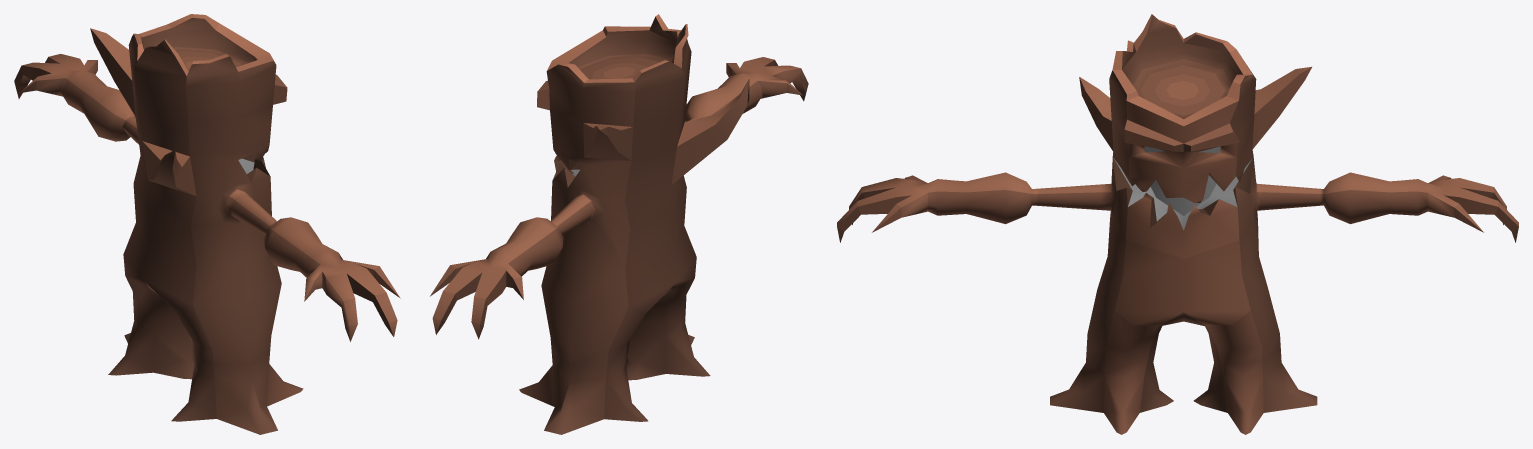
The model's file is Boss_6_tree.fbx.
The picture shows the model from 3 angles, left to right: view 1: azimuth 30°, elevation 25°; view 2: azimuth 150°, elevation 25°; view 3: azimuth 270°, elevation 25°; orthographic projection.
Visible parts, largest first — view 1: Boss_6_tree; view 2: Boss_6_tree; view 3: Boss_6_tree.
Boxes of the visible parts, box(x1,y1,x2,y2) form: Boss_6_tree: box(14, 14, 400, 434); Boss_6_tree: box(430, 14, 808, 434); Boss_6_tree: box(837, 14, 1518, 434).
Size of the model in its own units: 0.0339 by 0.0762 by 0.1303.
